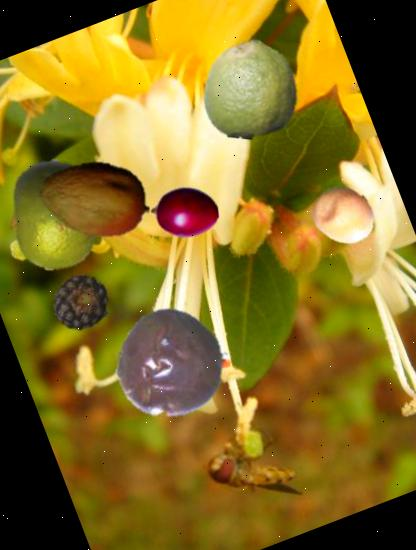Kumquats: (302, 174, 385, 257)
Limes: (187, 24, 316, 153)
Papaya: (23, 128, 165, 270)
Passion: (98, 288, 247, 437)
Pineapple: (42, 263, 121, 341)
Pomelo: (0, 143, 127, 286)
Tamarillo: (141, 168, 229, 256)
